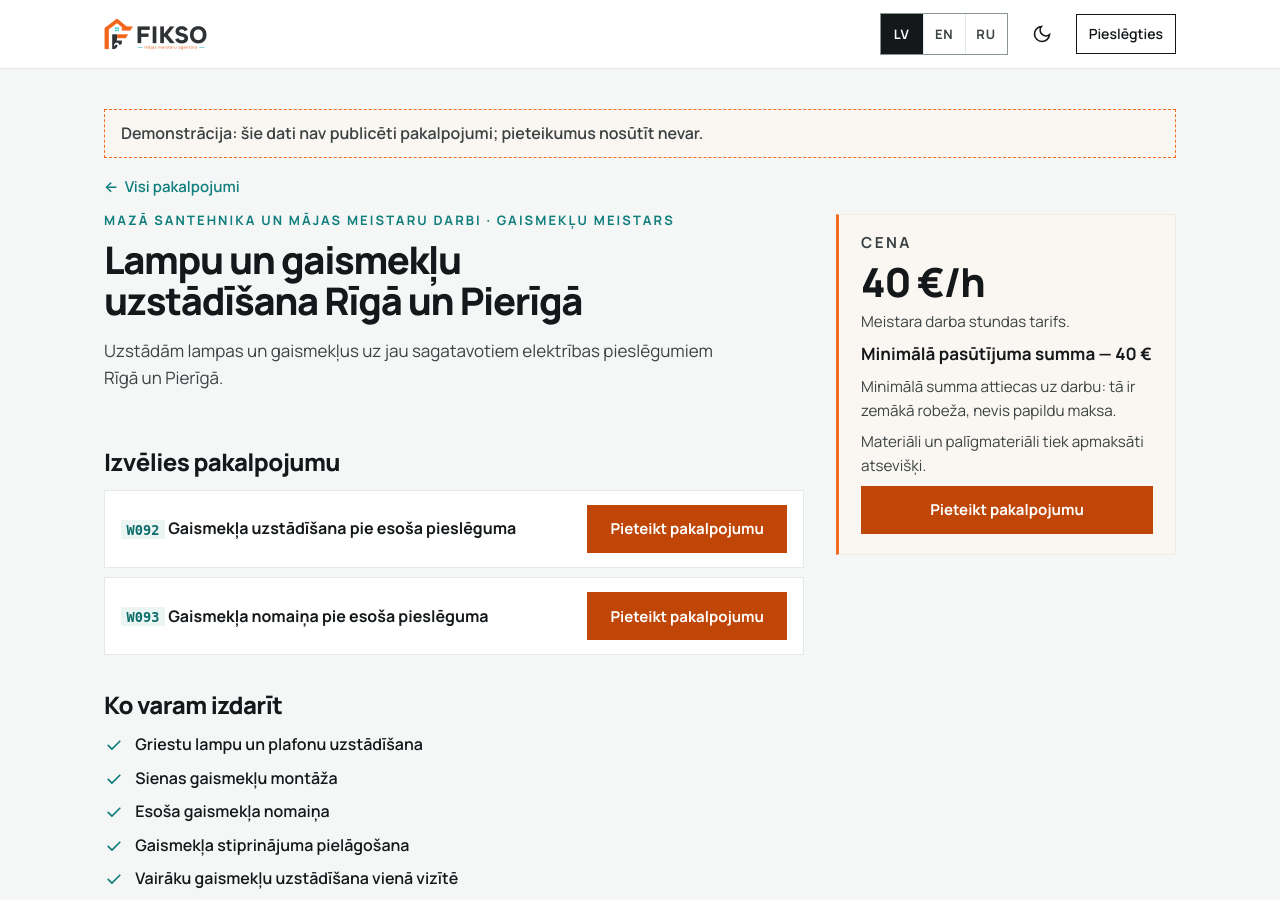
client catalogue with the demo layer › a guest who orders goes straight to the form; signing in is optional and keeps the W-ID
This screenshot has width=1280, height=900.
Click the link with aria-label "Pieteikt pakalpojumu: W092": (687, 529) [587,505,787,553]
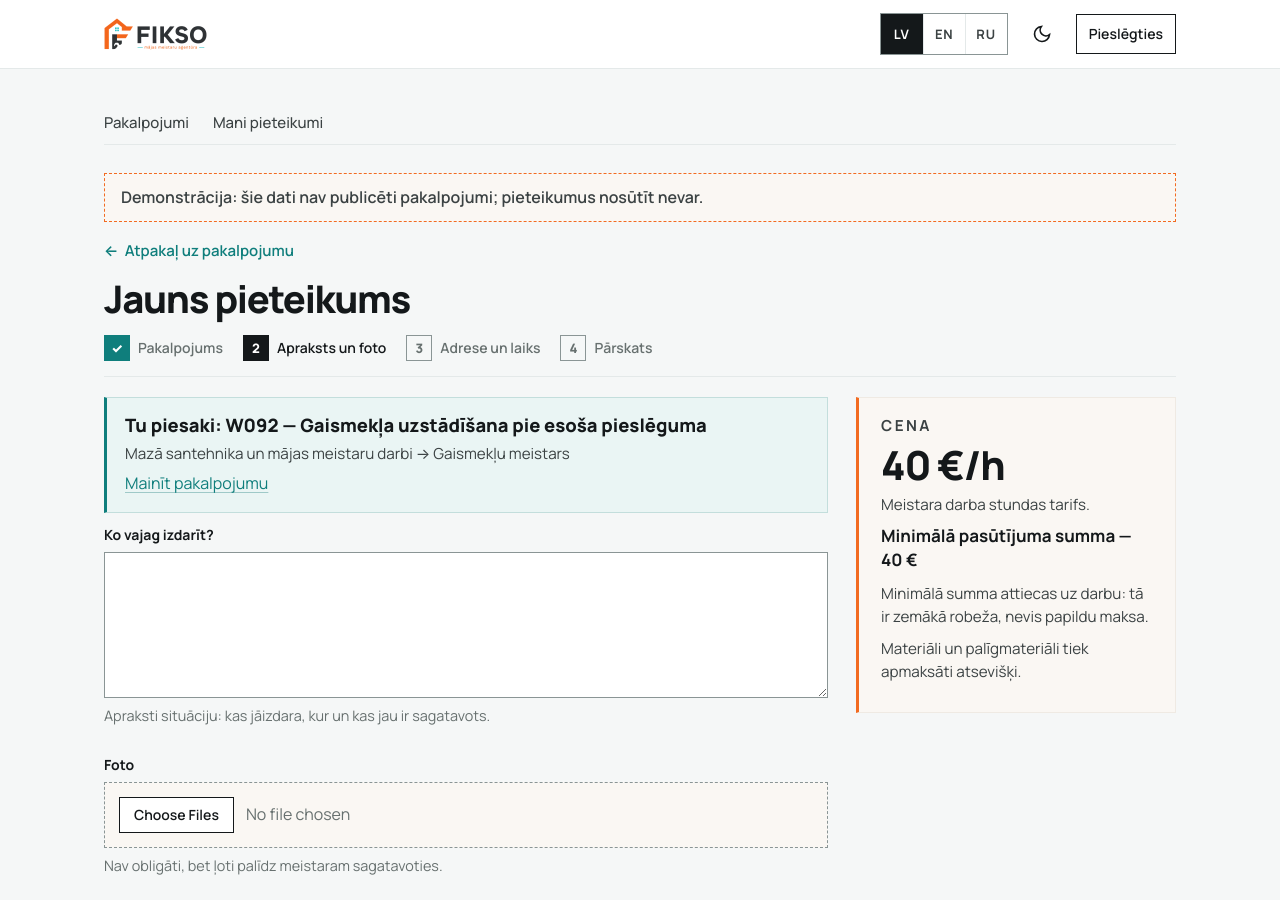
Now the text "Tu piesaki: W092 — Gaismekļa uzstādīšana pie esoša pieslēguma" is shown, box [125,414,809,437]
